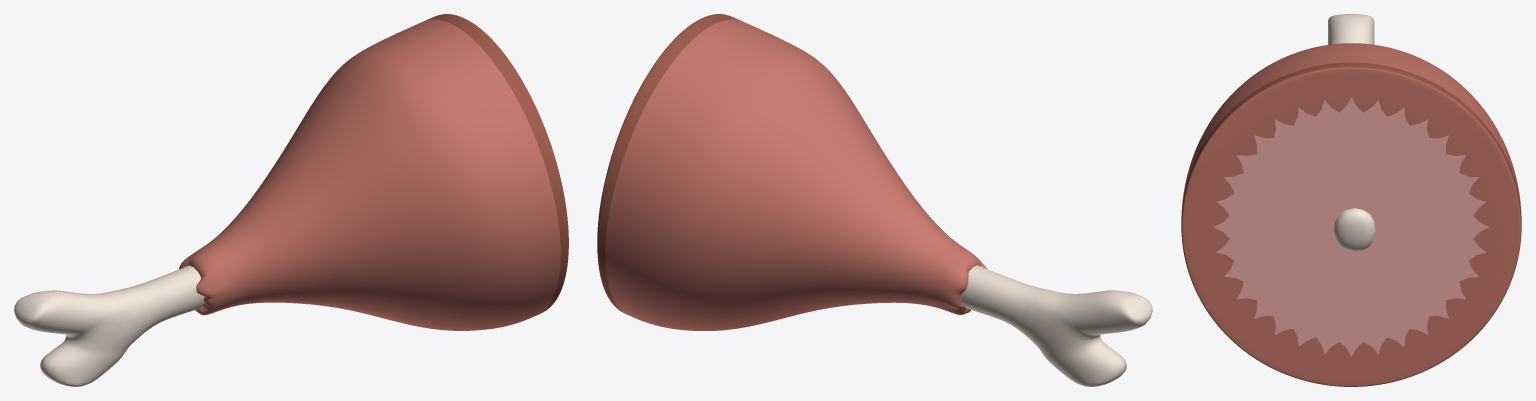
The model's file is jam.fbx.
3 renders of one model, left to right at view 1: azimuth 30°, elevation 25°; view 2: azimuth 150°, elevation 25°; view 3: azimuth 270°, elevation 25°, orthographic. The views are drawn at different scales.
Visible parts, largest first — view 1: Cylindre.002, Cube.002; view 2: Cylindre.002, Cube.002; view 3: Cylindre.002, Cube.002.
Part boxes in pixels (x1,y1,x2,y2): Cylindre.002: (179, 14, 568, 330); Cube.002: (14, 265, 204, 386); Cylindre.002: (597, 14, 987, 330); Cube.002: (961, 265, 1152, 386); Cylindre.002: (1181, 43, 1521, 386); Cube.002: (1328, 14, 1375, 251).
Bounding box in the file's own units: 407 × 232 × 230.
